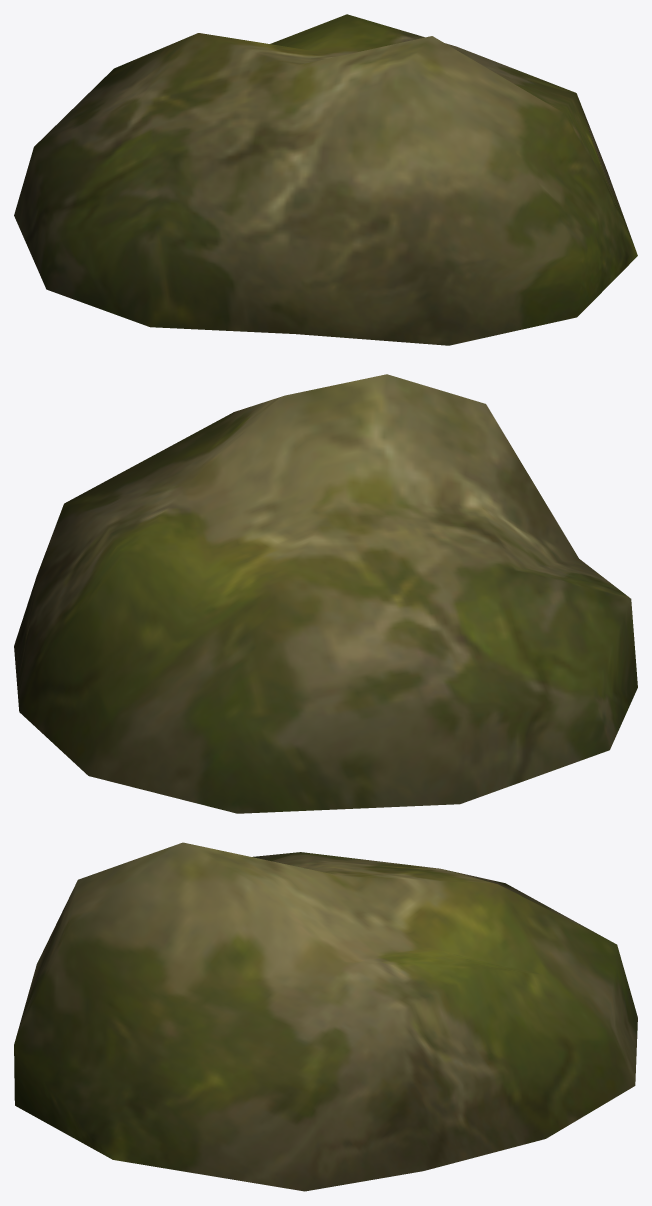
Rendered from mesh_quingming_rock02.FBX.
3 views of the same model, one above another, from view 1: azimuth 30°, elevation 25°; view 2: azimuth 150°, elevation 25°; view 3: azimuth 270°, elevation 25° (orthographic). The views are drawn at different scales.
Parts seen in each view (by area): view 1: mesh_quingming_rock02; view 2: mesh_quingming_rock02; view 3: mesh_quingming_rock02.
Boxes of the visible parts, x1,y1,x2,y2 form: mesh_quingming_rock02: [14, 14, 637, 345]; mesh_quingming_rock02: [14, 374, 637, 813]; mesh_quingming_rock02: [14, 842, 637, 1191].
Bounding box in the file's own units: 5.31 × 2 × 5.18.
